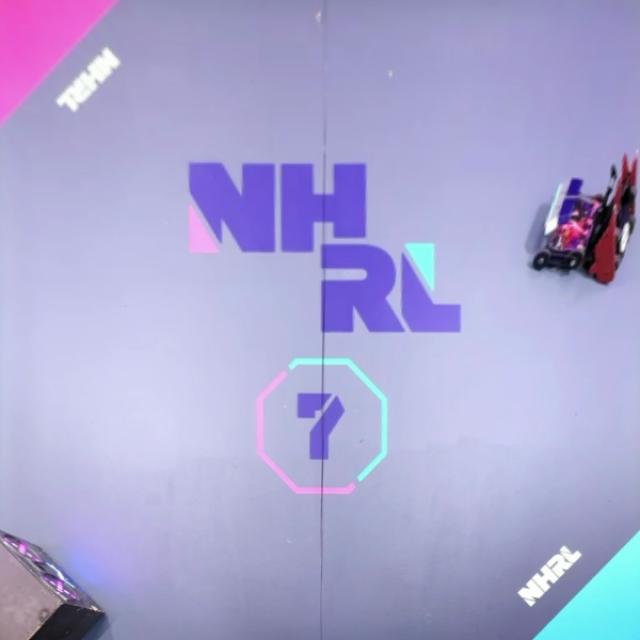housebot: (0, 528, 107, 640)
robot: (581, 151, 640, 285), (532, 177, 613, 274)
